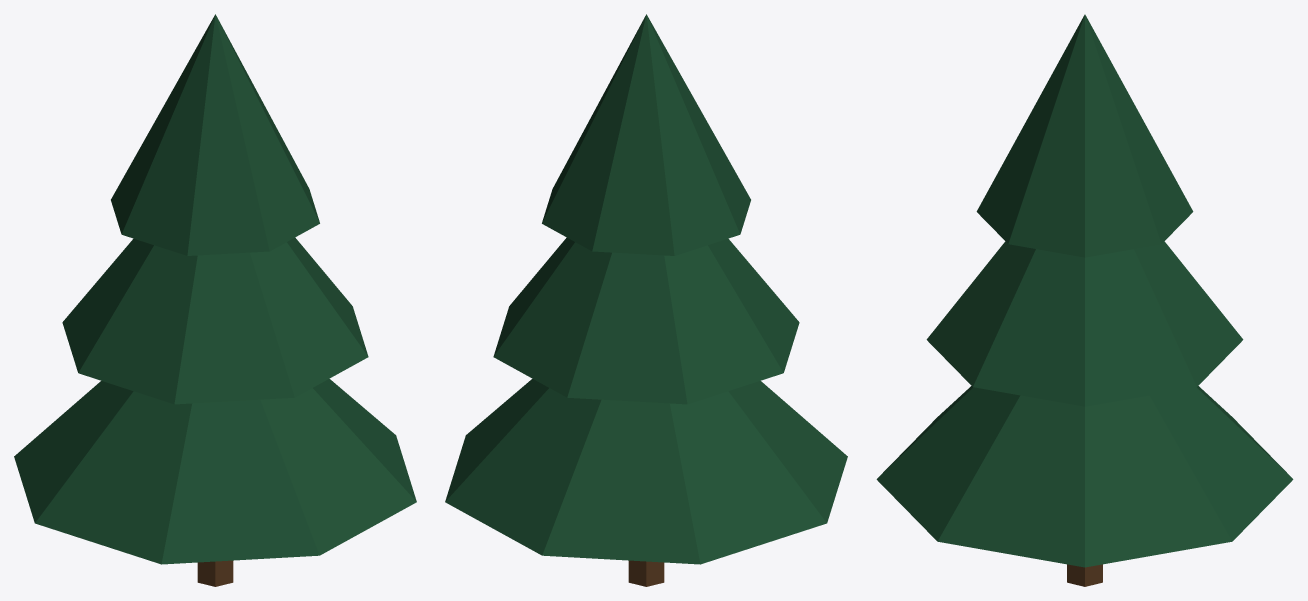
File: pine.glb
The picture shows the model from 3 angles, left to right: view 1: azimuth 30°, elevation 25°; view 2: azimuth 150°, elevation 25°; view 3: azimuth 270°, elevation 25°; orthographic projection.
Parts seen in each view (by area): view 1: pine; view 2: pine; view 3: pine.
Boxes of the visible parts, box(x1,y1,x2,y2) form: pine: box(14, 14, 416, 586); pine: box(445, 14, 847, 586); pine: box(876, 14, 1293, 586).
Bounding box in the file's own units: 4.32 × 6.45 × 4.32.
